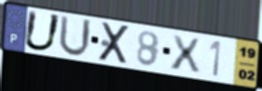1: (208, 40, 223, 79)
8: (134, 30, 161, 68)
U: (21, 8, 64, 53), (56, 13, 93, 59)
X: (96, 21, 133, 66), (169, 33, 203, 74)
